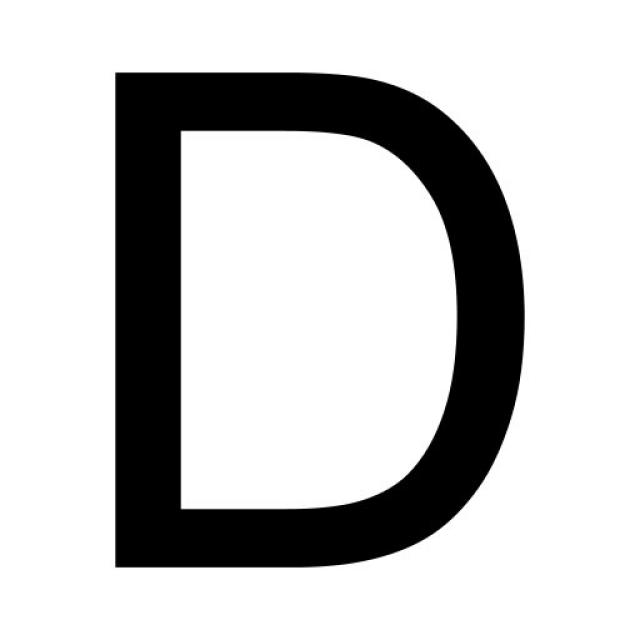D: (78, 44, 539, 599)
